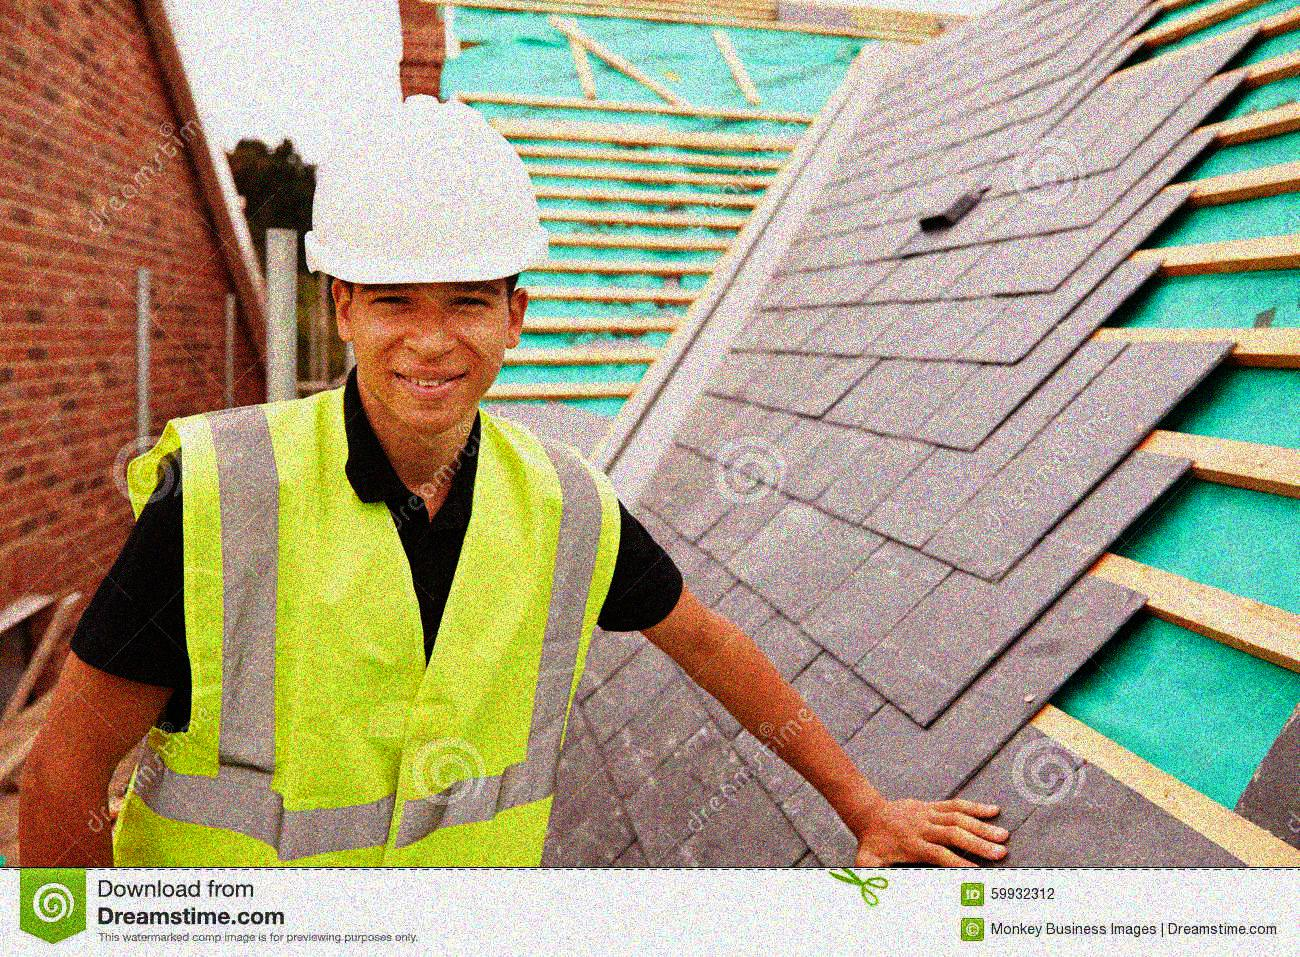helmet: (304, 89, 553, 427)
